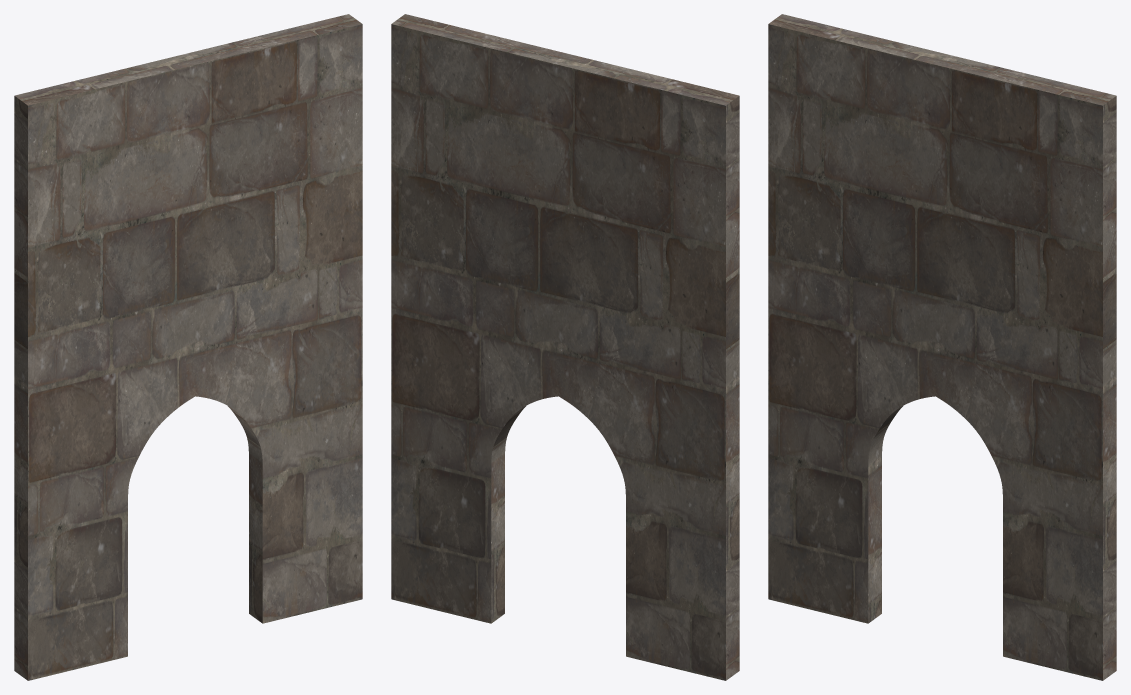
The model's file is SM_ArchWallDoor_01d.fbx.
The picture shows the model from 3 angles, left to right: view 1: azimuth 30°, elevation 25°; view 2: azimuth 150°, elevation 25°; view 3: azimuth 330°, elevation 25°; orthographic projection.
Visible parts, largest first — view 1: SM_ArchWallDoor_01d; view 2: SM_ArchWallDoor_01d; view 3: SM_ArchWallDoor_01d.
Boxes of the visible parts, x1,y1,x2,y2 form: SM_ArchWallDoor_01d: (14, 14, 362, 680); SM_ArchWallDoor_01d: (391, 14, 739, 680); SM_ArchWallDoor_01d: (768, 14, 1116, 680).
Bounding box in the file's own units: 700 × 1150 × 50.
Materials: 1 (1 with a texture image).
